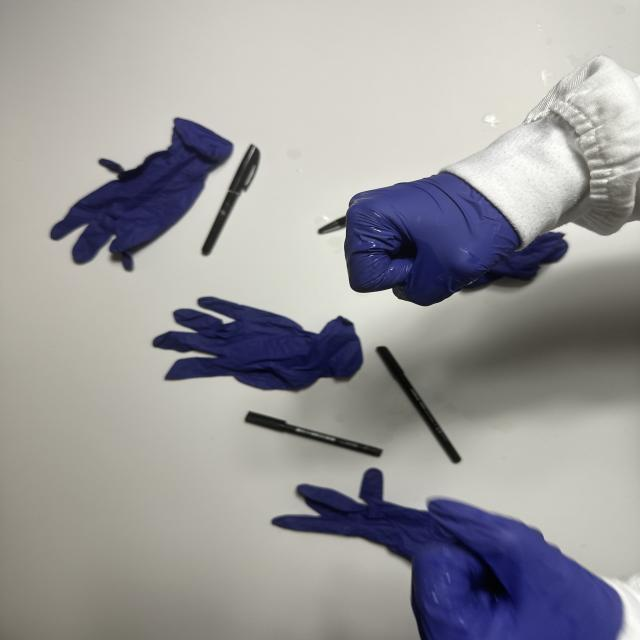gloves_contaminated: (412, 500, 633, 640), (345, 173, 520, 306)
